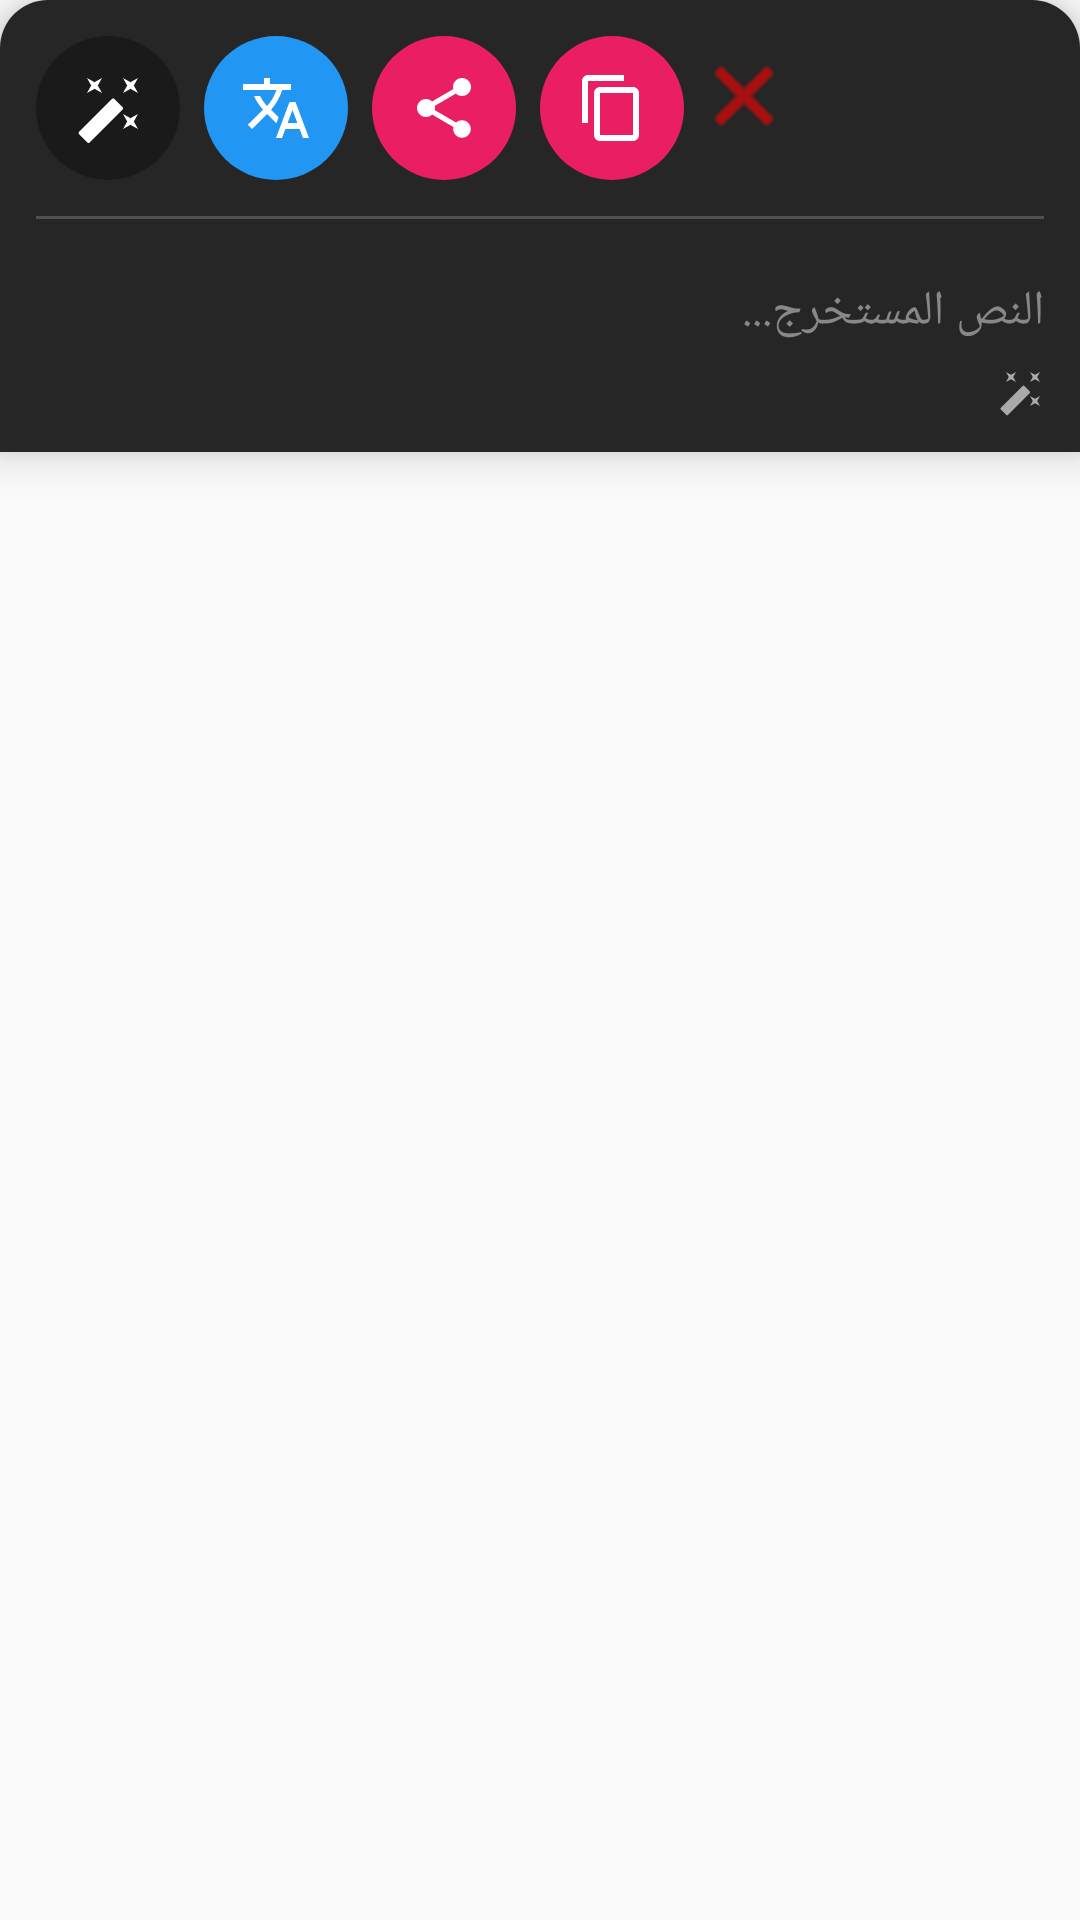

Icon bounding boxes for this 1080w x 1920h phone screenshot, format {"x1": x1, "y1": y1, "x2": x2, "y2": y2}:
close clear cancel: {"x1": 714, "y1": 66, "x2": 774, "y2": 126}
زر الترجمة: {"x1": 204, "y1": 36, "x2": 348, "y2": 180}
زر المشاركة: {"x1": 372, "y1": 36, "x2": 516, "y2": 180}
زر النسخ: {"x1": 540, "y1": 36, "x2": 684, "y2": 180}
